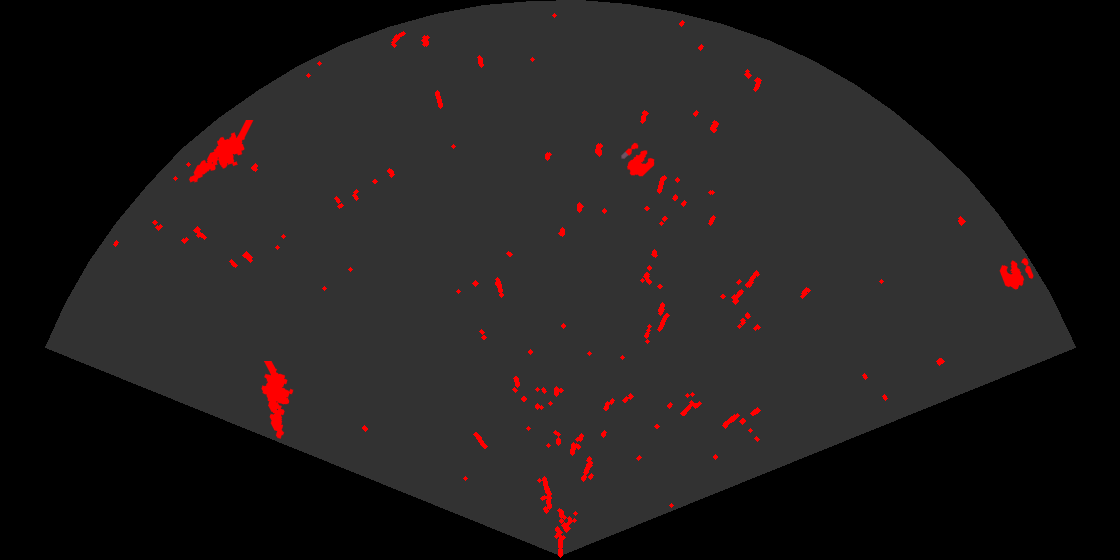ball: (620, 141, 656, 178), (998, 256, 1035, 291)
frogman: (187, 120, 255, 184), (260, 361, 295, 440)
